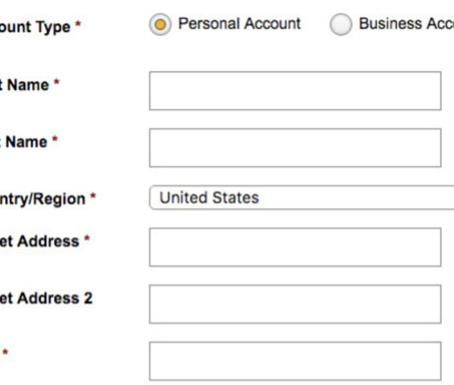field: (146, 225, 442, 268), (145, 339, 442, 381), (145, 69, 442, 110), (145, 284, 442, 325), (145, 128, 442, 167)
